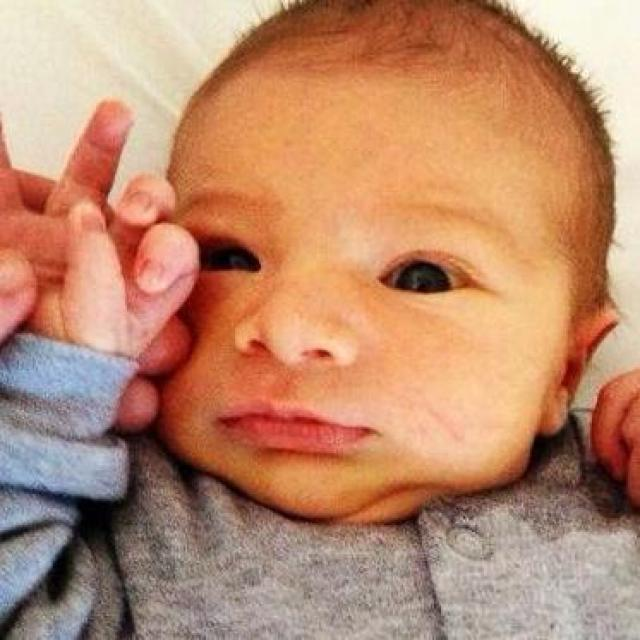surprised: (116, 149, 576, 494)
